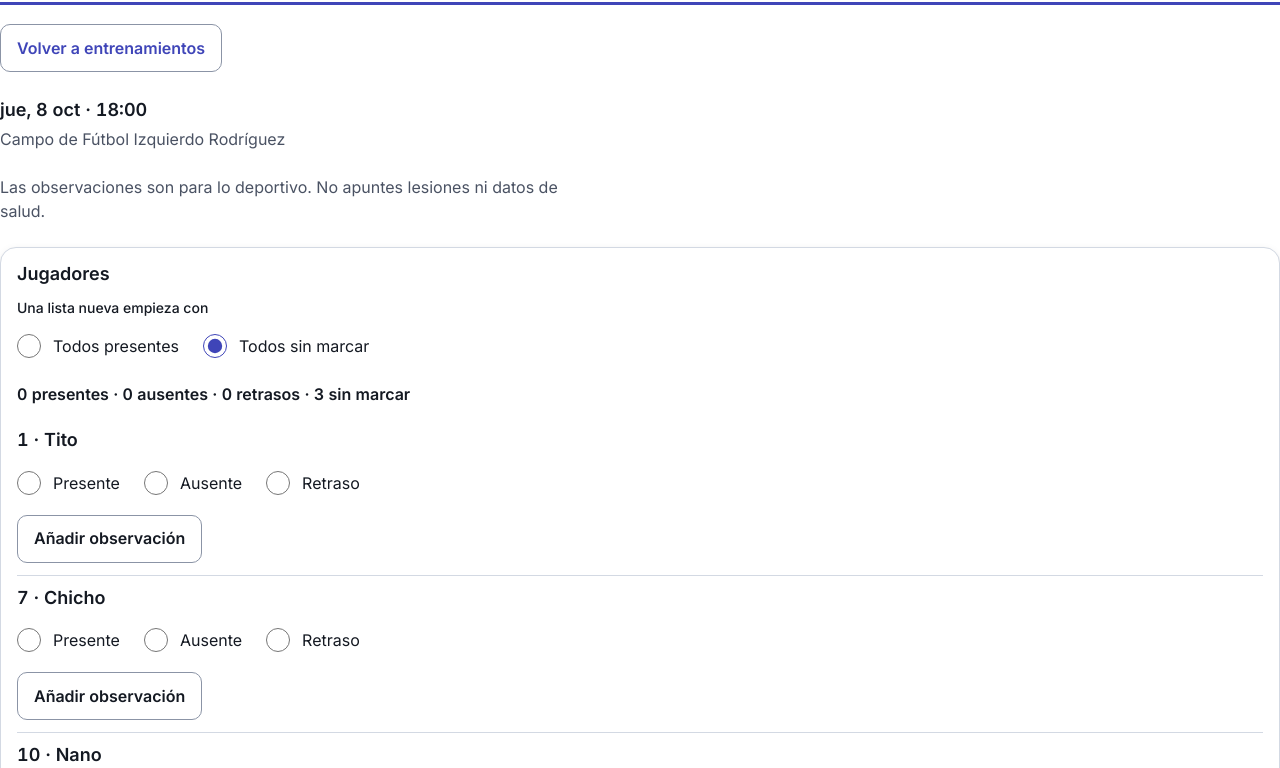
ListaPage · guardar › con jugadores sin marcar, dice cuántos quedan y guardar no los manda
This screenshot has width=1280, height=768.
What coordinates should you click on to do the following:
click the radio button labelled "Presente" below "1 · Tito"
I would click on:
 (29, 483)
Its box is [17,471,41,495].
(page scrolled)
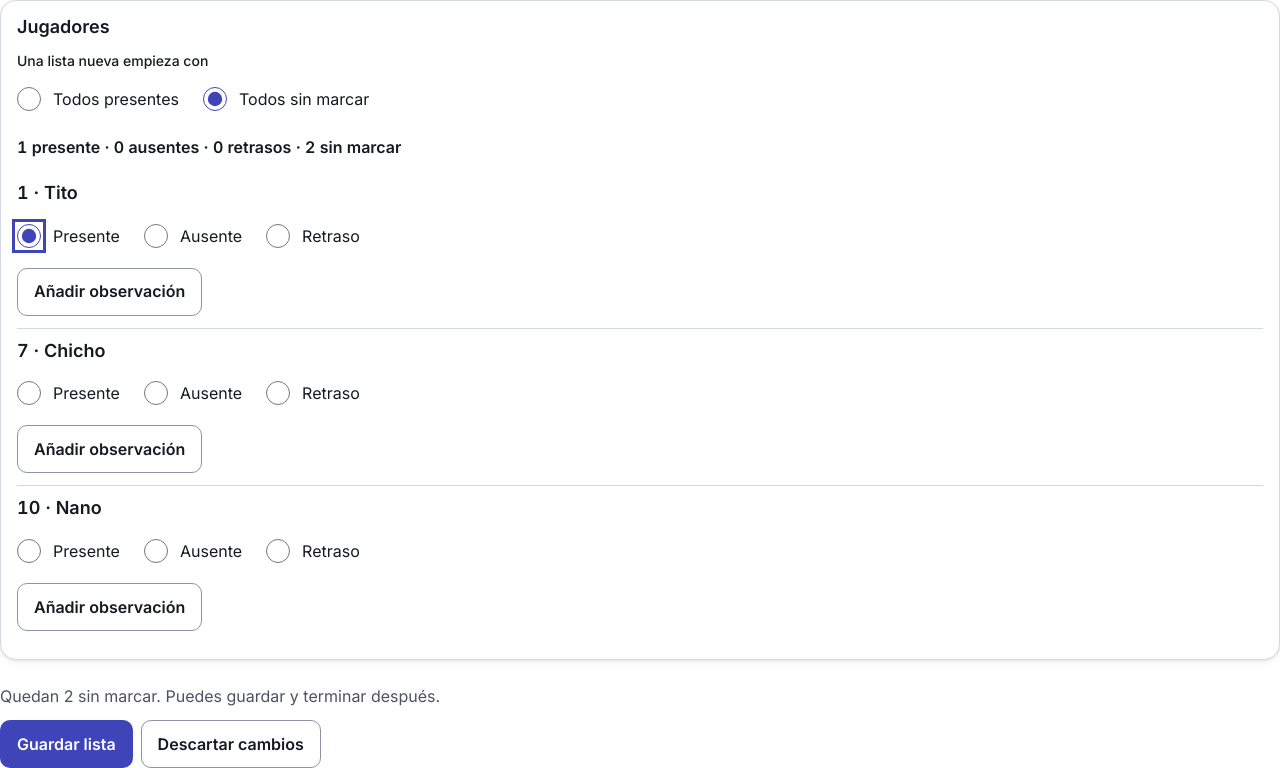
Check: the text "Quedan 2 sin marcar. Puedes guardar y terminar después." is shown, box [0,686,440,706]
What coordinates should you click on to do the following:
click the button "Guardar lista"
I would click on:
 (66, 744)
Its box is [0,720,133,767].
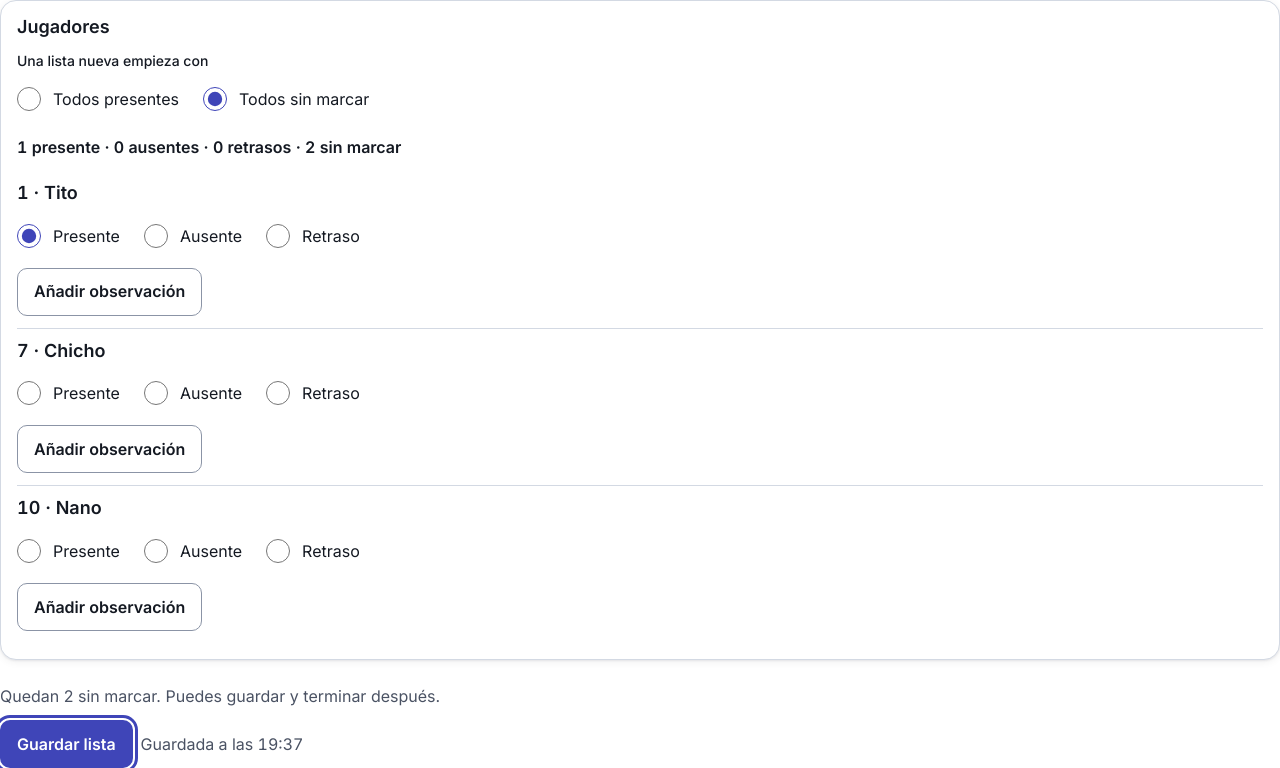
Check: the text "Guardada a las 19:37" is shown, box [141,732,303,756]
